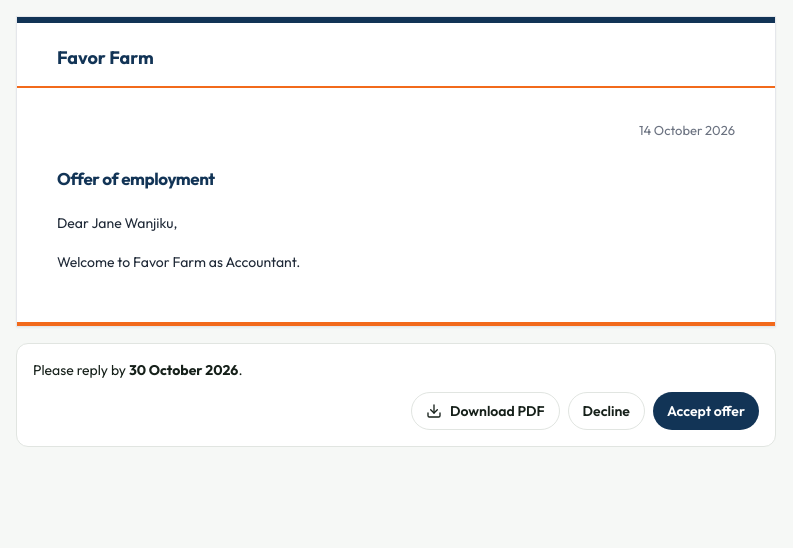
Test: OfferPage (public) › declining asks for an optional reason
Click the button "Decline".
click(606, 411)  # box left=568, top=392, right=645, bottom=430
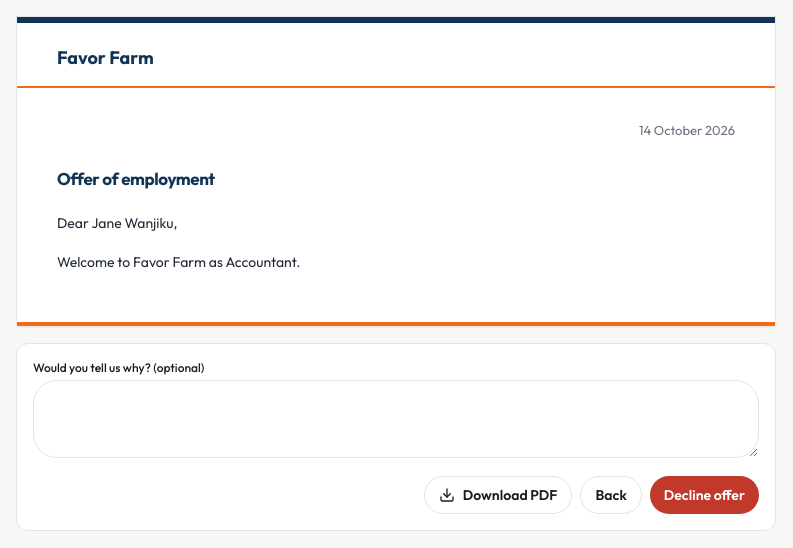
Type " Took another job " into the text box labelled "Would you tell us why? (optional)".
click(396, 419); type(" Took another job ")  # box left=33, top=380, right=759, bottom=458
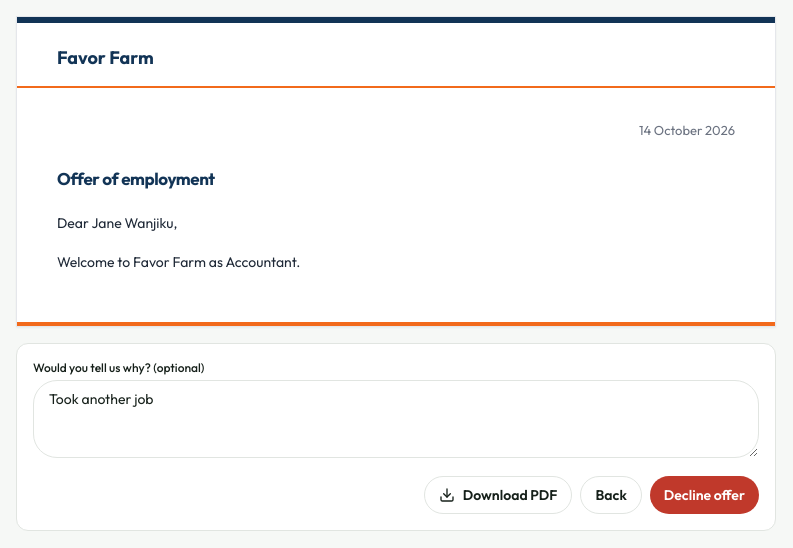
Click the button "Decline offer".
click(704, 495)  # box left=650, top=476, right=759, bottom=514
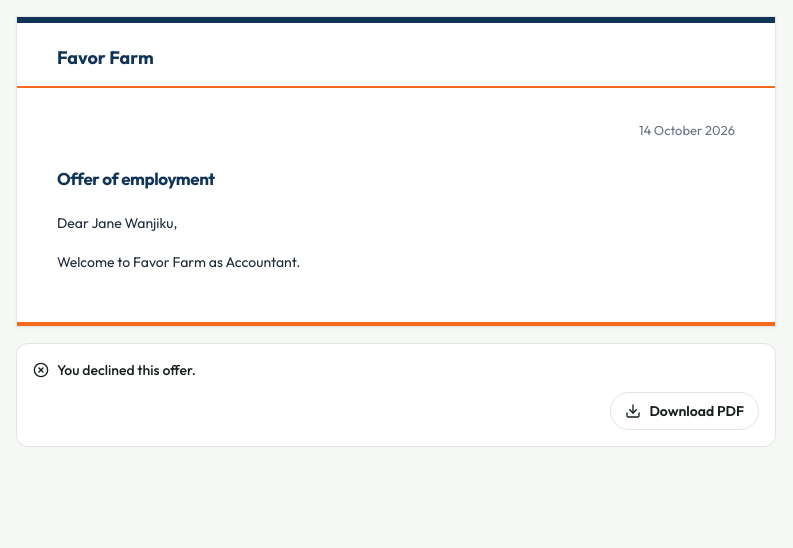
Result: the text "You declined this offer." is shown at left=33, top=361, right=196, bottom=379
